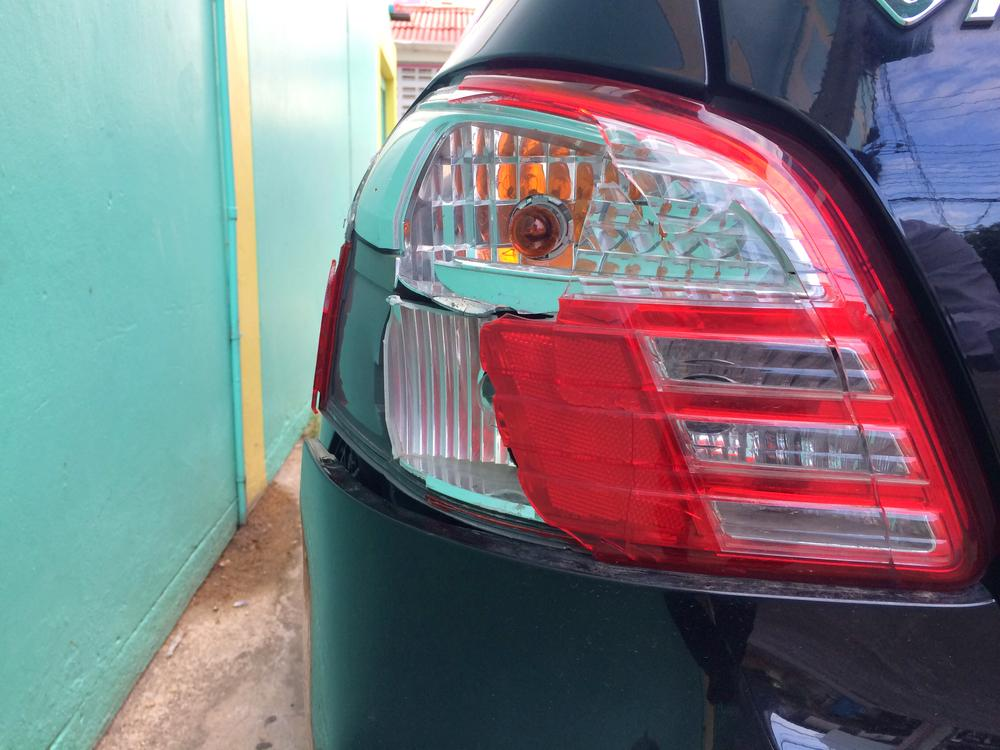lamp broken: (315, 64, 999, 592)
